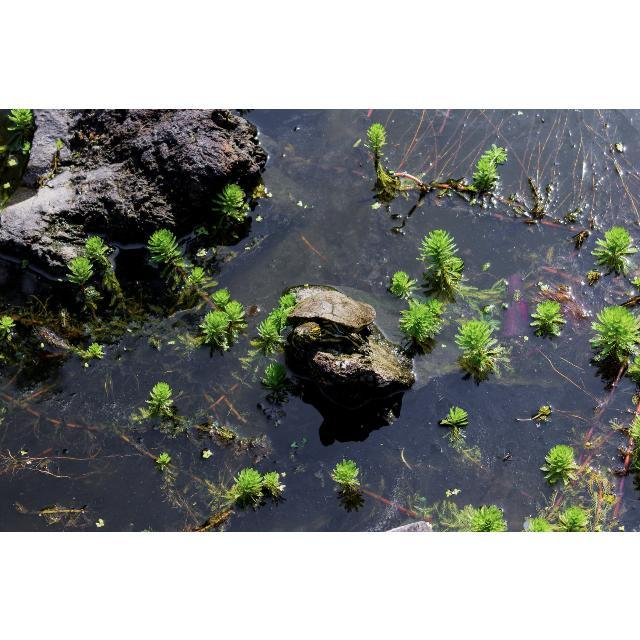turtle: (282, 286, 375, 348)
